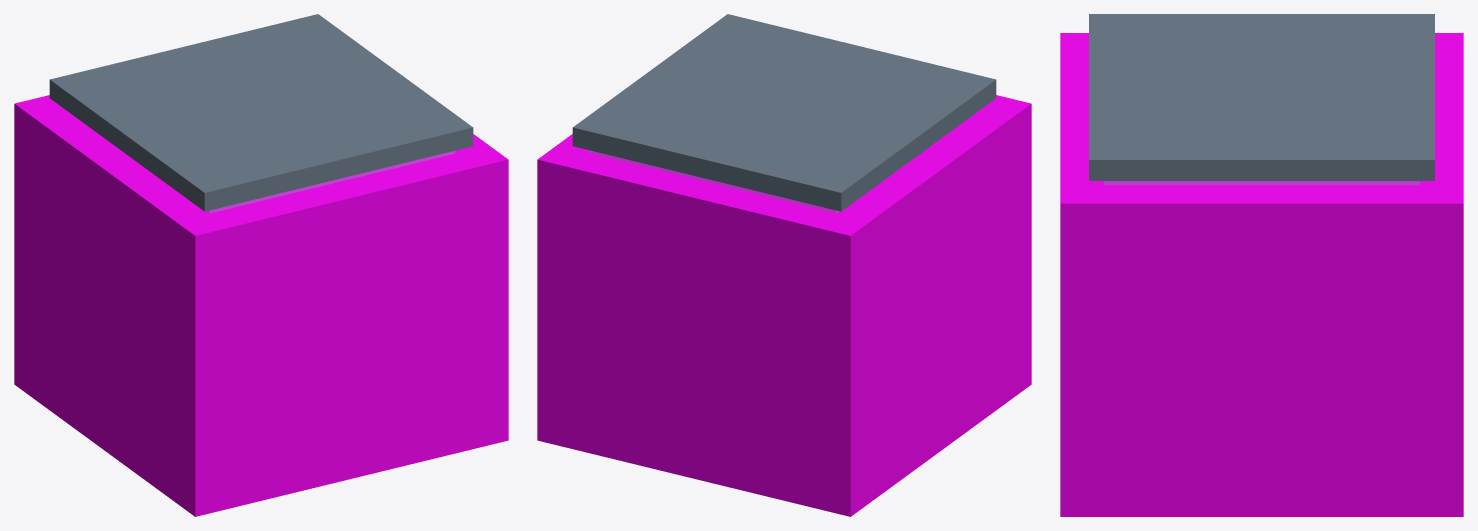
Rendered from incubator.glb.
3 views of the same model, side by side, from view 1: azimuth 30°, elevation 25°; view 2: azimuth 150°, elevation 25°; view 3: azimuth 270°, elevation 25° (orthographic). The views are drawn at different scales.
Visible parts, largest first — view 1: Col_main, M_b0, GlassM_b1; view 2: Col_main, M_b0, GlassM_b1; view 3: Col_main, M_b0, GlassM_b1.
Part boxes in pixels (left/top/right/bottom): Col_main: left=14, top=95, right=508, bottom=516; M_b0: left=49, top=14, right=473, bottom=211; GlassM_b1: left=207, top=151, right=455, bottom=213; Col_main: left=537, top=95, right=1031, bottom=516; M_b0: left=572, top=14, right=996, bottom=211; GlassM_b1: left=590, top=151, right=838, bottom=213; Col_main: left=1060, top=33, right=1463, bottom=516; M_b0: left=1089, top=14, right=1434, bottom=180; GlassM_b1: left=1104, top=181, right=1419, bottom=184.
Bounding box in the file's own units: 1.4 × 1.32 × 1.4.
